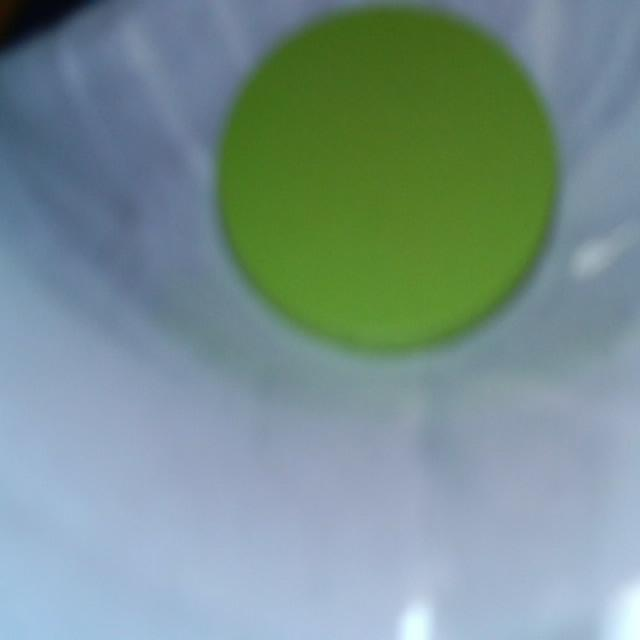circle: (218, 9, 555, 348)
